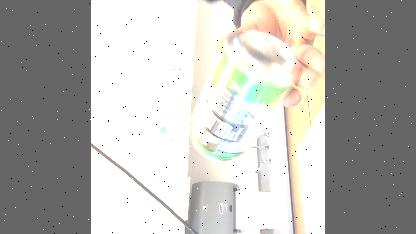Can: (178, 25, 302, 165)
